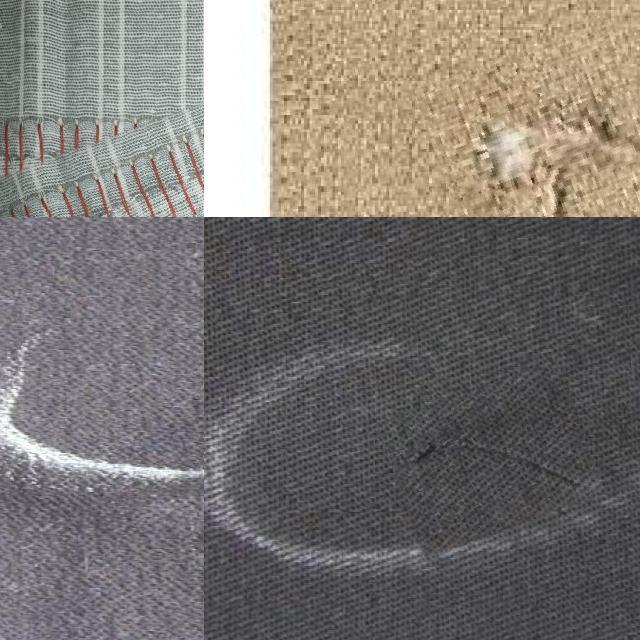Thread_out: (0, 36, 204, 217)
other: (426, 33, 640, 217)
stains: (386, 372, 596, 544)
